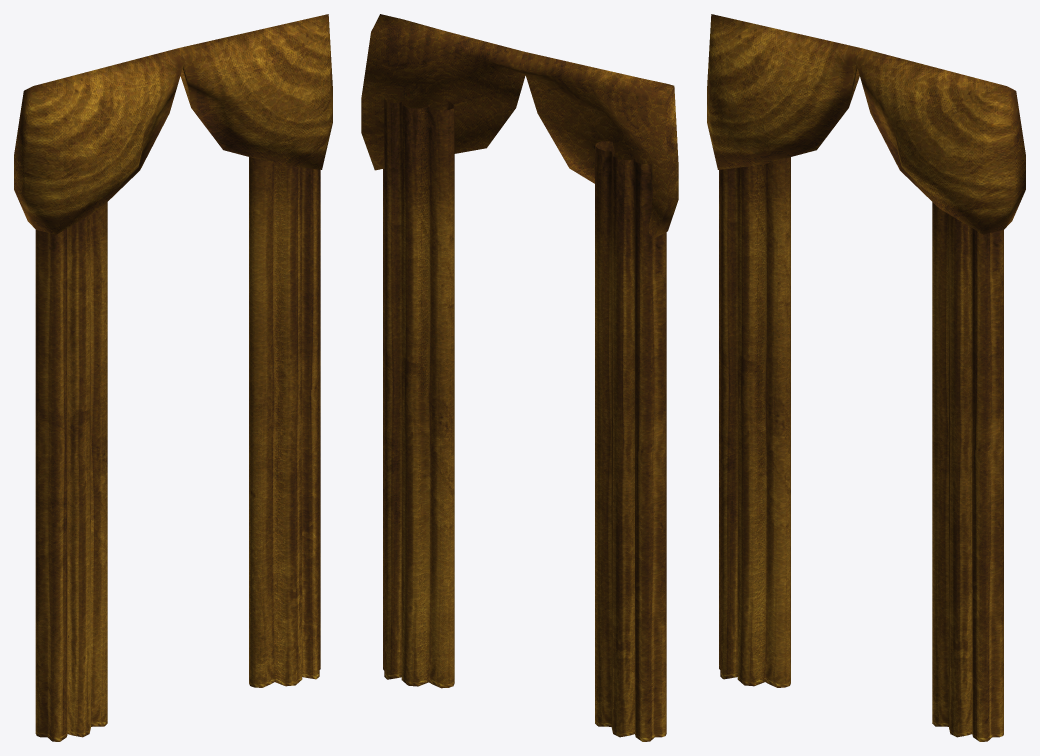
The model's file is curtain14_long.dae.
3 views of the same model, side by side, from view 1: azimuth 30°, elevation 25°; view 2: azimuth 150°, elevation 25°; view 3: azimuth 330°, elevation 25° (orthographic).
Visible parts, largest first — view 1: polySurface191; view 2: polySurface191; view 3: polySurface191.
Part boxes in pixels (<box>): polySurface191: <box>14,14,332,741</box>; polySurface191: <box>361,14,678,741</box>; polySurface191: <box>707,14,1025,741</box>.
Size of what is drawn, in the model's own units: 2.5 by 5.08 by 0.4673.
